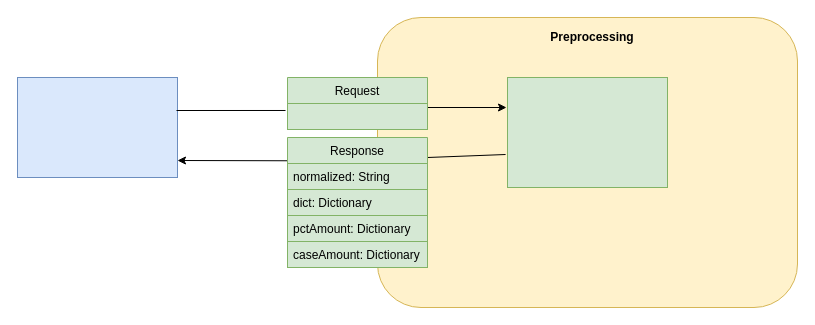
This 815x325 diagram has some shape labels left out. The shapes that lost their labels are listed below. From the top down, each one's centre as x and y in pixels, then its label:
At point 97,127: "Aggregator".
At point 357,116: "text: String".
At point 587,132: "POST /".
